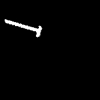half_double_crochet: (5, 20, 41, 36)
